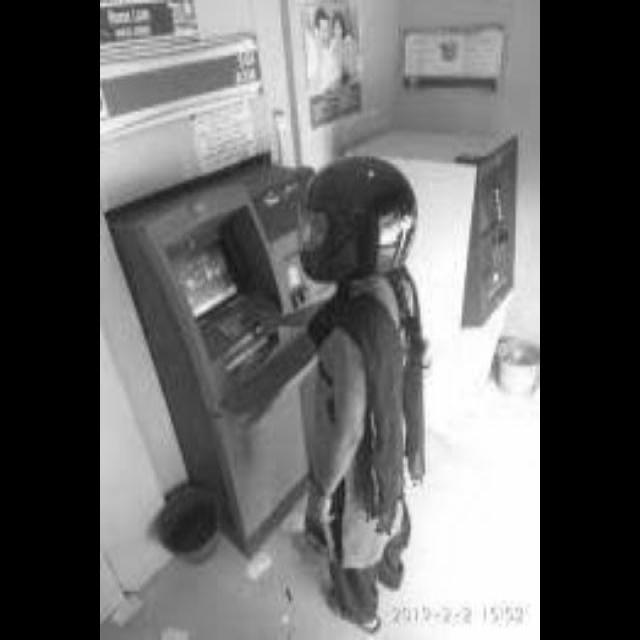5_casco: (281, 147, 424, 301)
